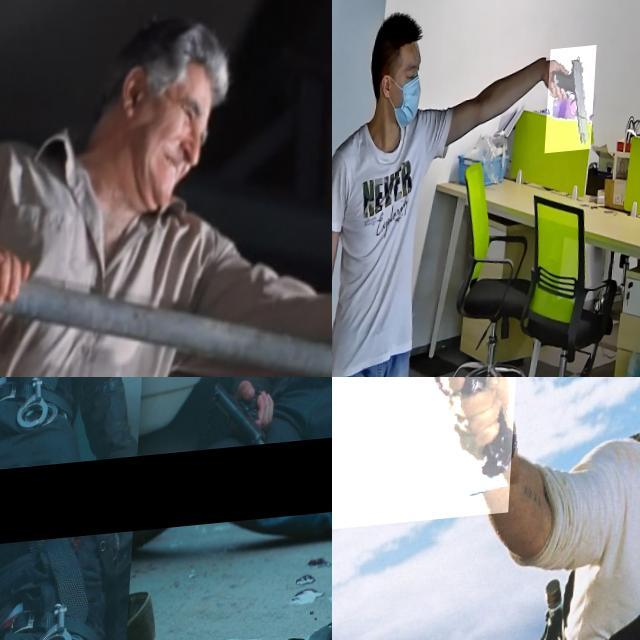gun-knife-thesis - v11 Yolov5 augmented: (332, 377, 526, 540), (548, 55, 600, 164), (208, 377, 276, 454), (219, 608, 332, 640), (0, 416, 33, 486)
